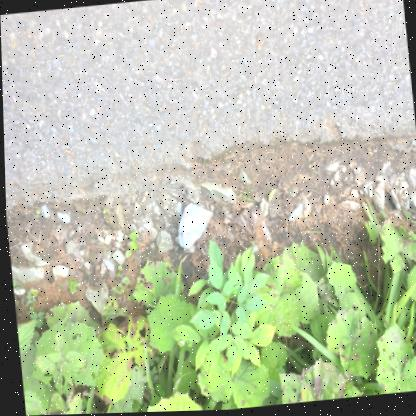Metal: (177, 203, 212, 252)
